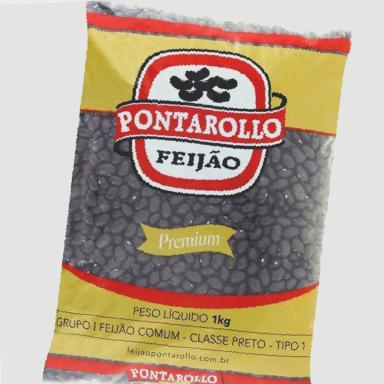beans package: (44, 2, 350, 383)
